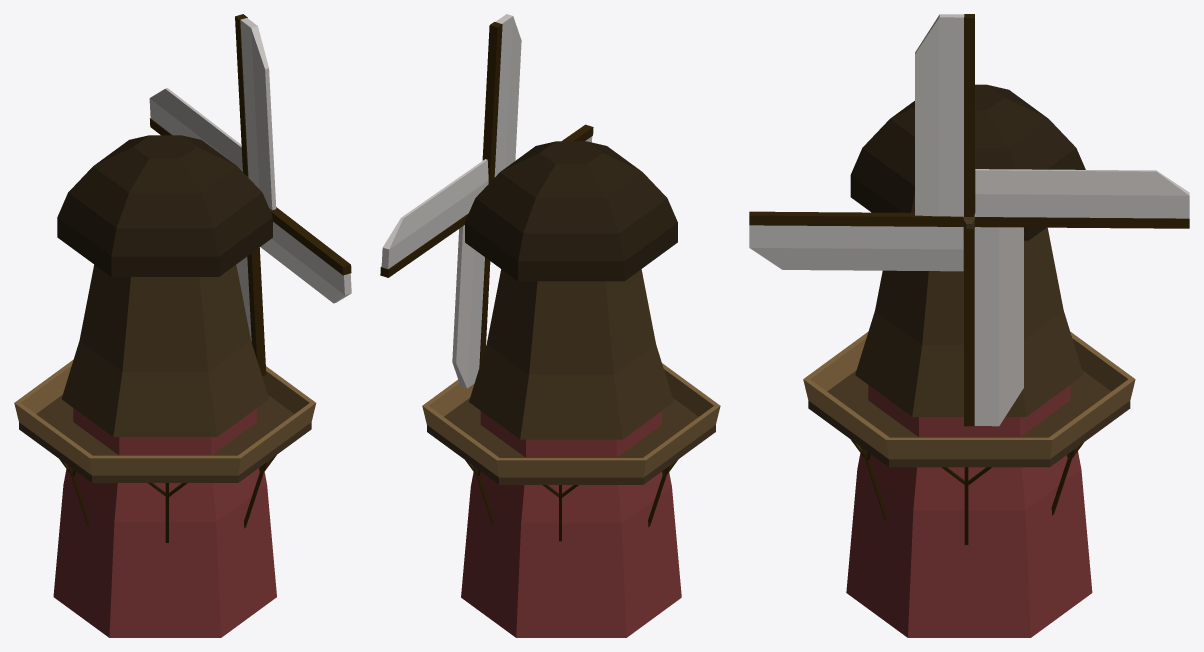
Rendered from Windmill.fbx.
The picture shows the model from 3 angles, left to right: view 1: azimuth 30°, elevation 25°; view 2: azimuth 150°, elevation 25°; view 3: azimuth 270°, elevation 25°; orthographic projection. The views are drawn at different scales.
Parts seen in each view (by area): view 1: Molen; view 2: Molen; view 3: Molen.
Boxes of the visible parts, left/top/right/bottom form: Molen: left=14, top=14, right=351, bottom=637; Molen: left=380, top=14, right=720, bottom=637; Molen: left=749, top=14, right=1189, bottom=637.
Bounding box in the file's own units: 459 × 1092 × 702.
